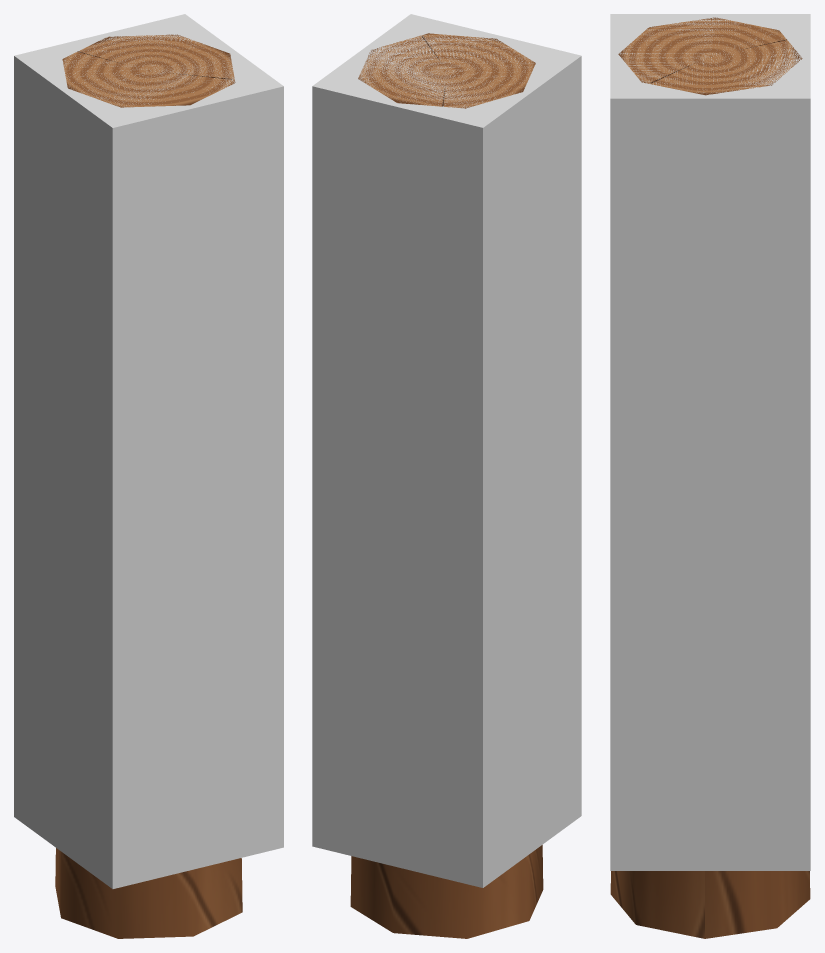
File: SM_Fence_Post.fbx
3 views of the same model, side by side, from view 1: azimuth 30°, elevation 25°; view 2: azimuth 150°, elevation 25°; view 3: azimuth 270°, elevation 25° (orthographic).
Visible parts, largest first — view 1: FencePost_Col0, FencePost_Body; view 2: FencePost_Col0, FencePost_Body; view 3: FencePost_Col0, FencePost_Body.
Part boxes in pixels (left/top/right/bottom): FencePost_Col0: left=14, top=14, right=283, bottom=888; FencePost_Body: left=55, top=34, right=242, bottom=938; FencePost_Col0: left=312, top=14, right=581, bottom=887; FencePost_Body: left=350, top=33, right=543, bottom=938; FencePost_Col0: left=610, top=14, right=810, bottom=870; FencePost_Body: left=610, top=17, right=810, bottom=938.
Size of the model in its own units: 0.8 by 3.7 by 0.8.
